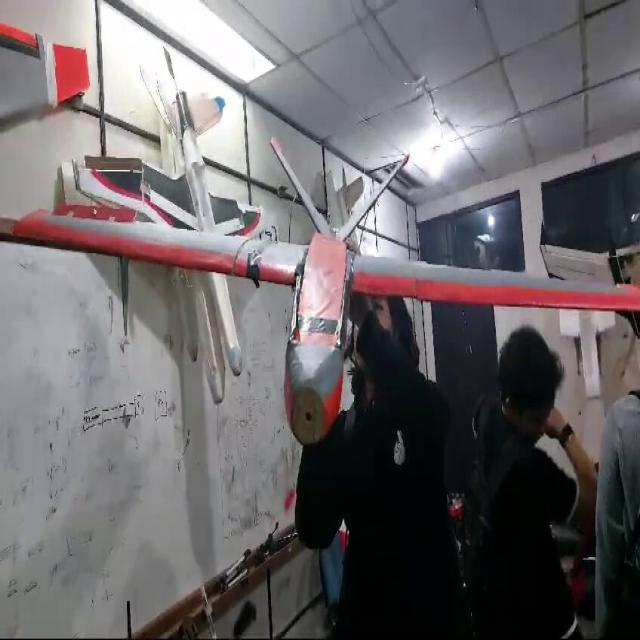plane: (1, 44, 638, 447)
